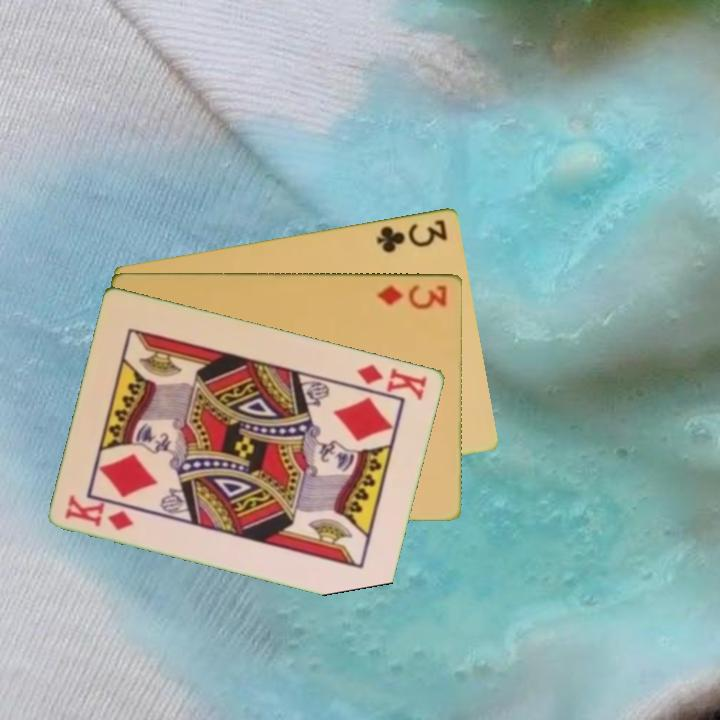3c: (373, 215, 451, 255)
3d: (374, 281, 450, 311)
Kd: (354, 360, 431, 403), (62, 491, 137, 533)
